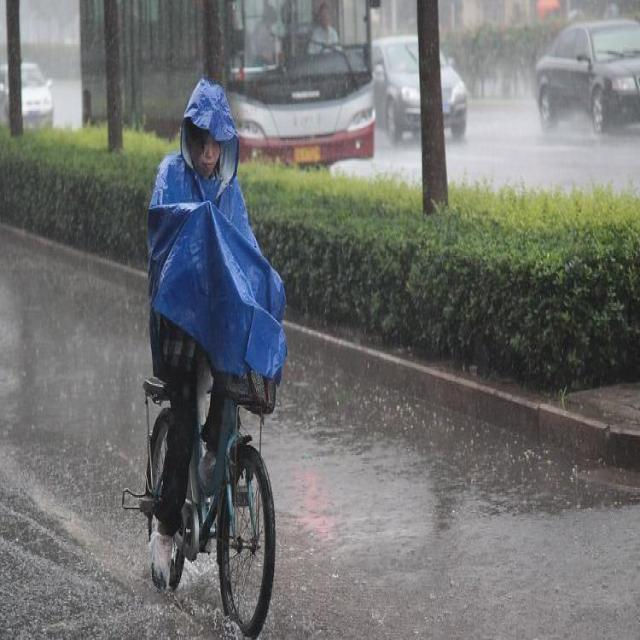car: (532, 17, 640, 128), (357, 36, 468, 140), (0, 61, 56, 128)
